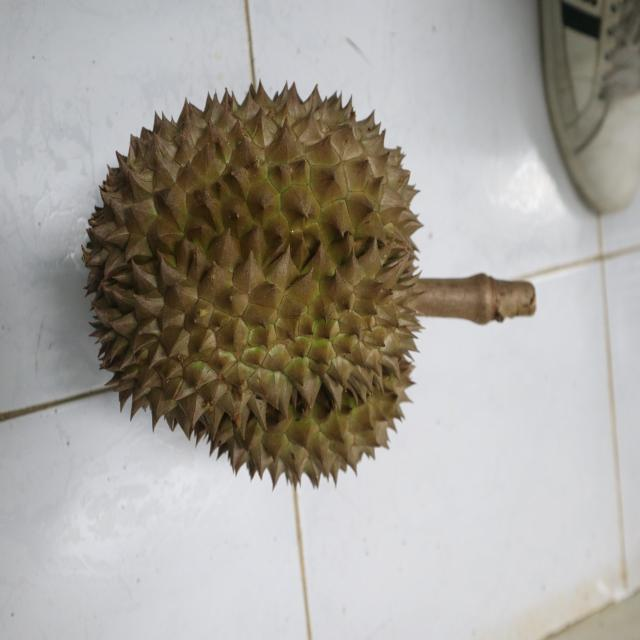mature: (83, 78, 428, 488)
